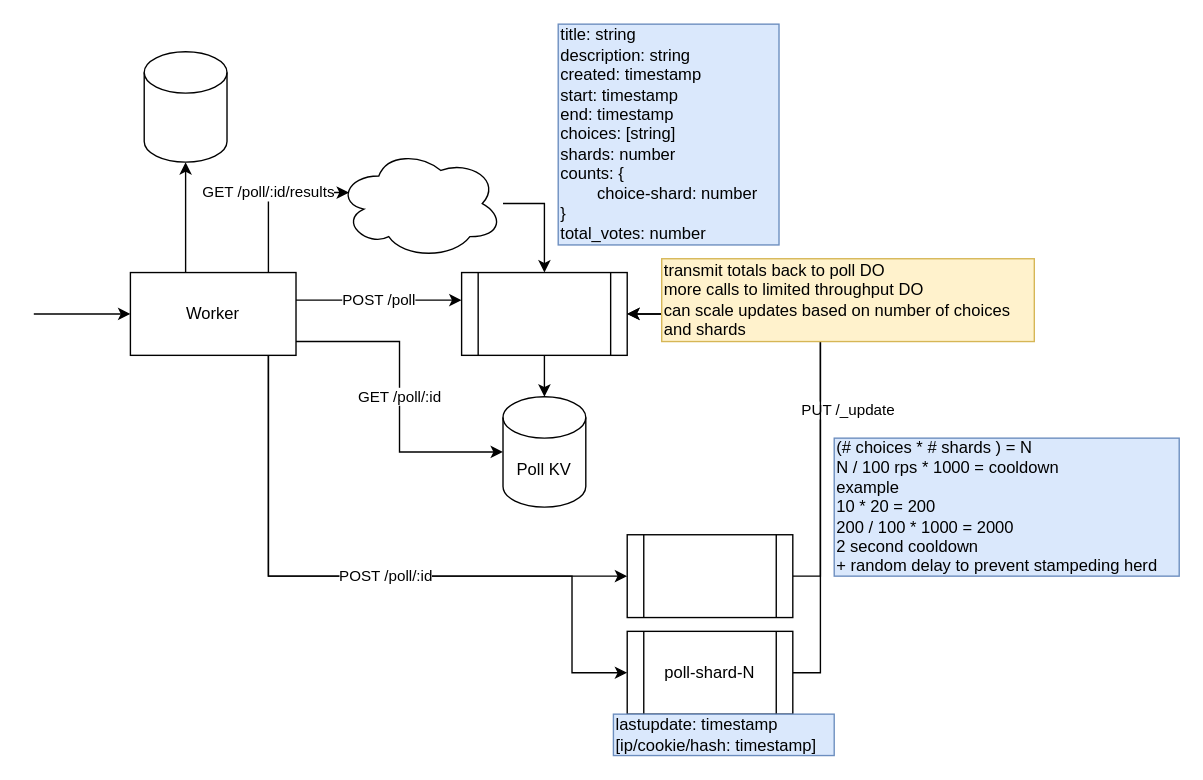
The diagram is 1203 pixels wide and 780 high, and some of its shapes have lost their labels. The shapes that lost their labels are listed below. From the top down, each one's centre as x and y in pixels, then its label:
At point 185,106: "API Key KV".
At point 419,203: "Cache (or KV)".
At point 543,313: "poll DO".
At point 709,575: "poll-shard-0".
